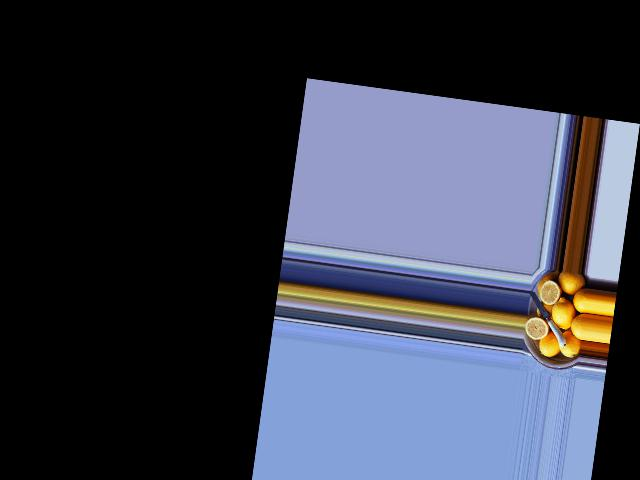lemon: (553, 270, 586, 298)
